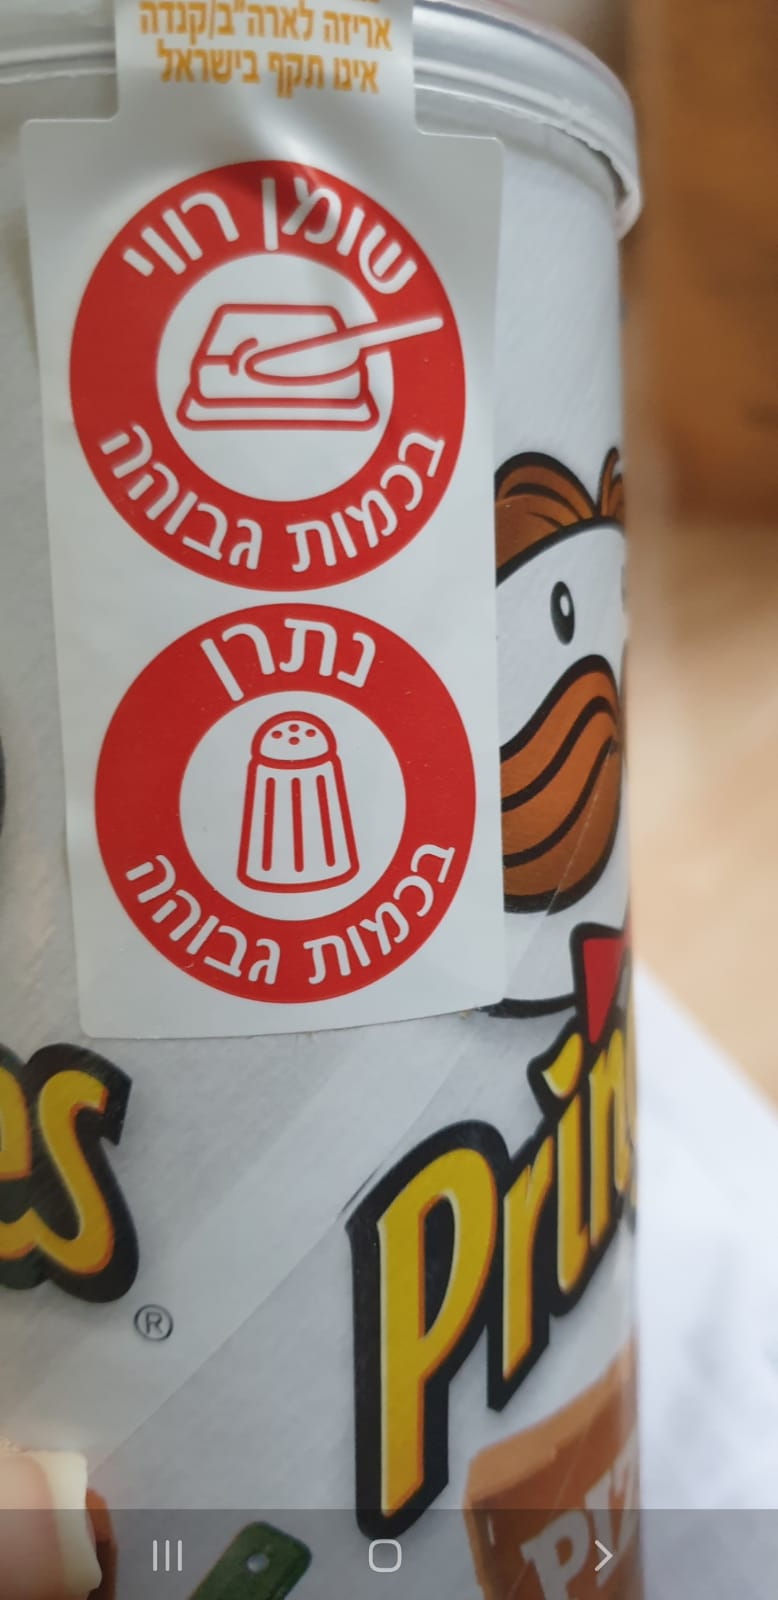fat: (63, 156, 470, 593)
salt: (88, 598, 485, 1006)
